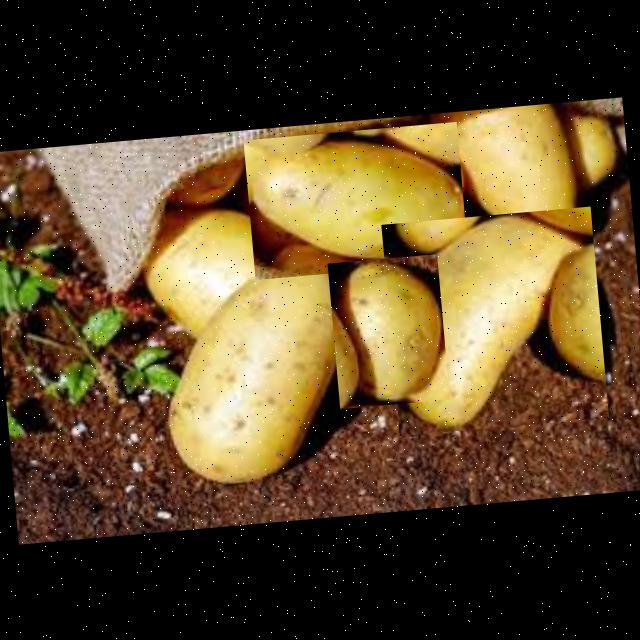Potato: (381, 207, 608, 436), (153, 254, 368, 492), (243, 122, 468, 280), (327, 254, 449, 408)
